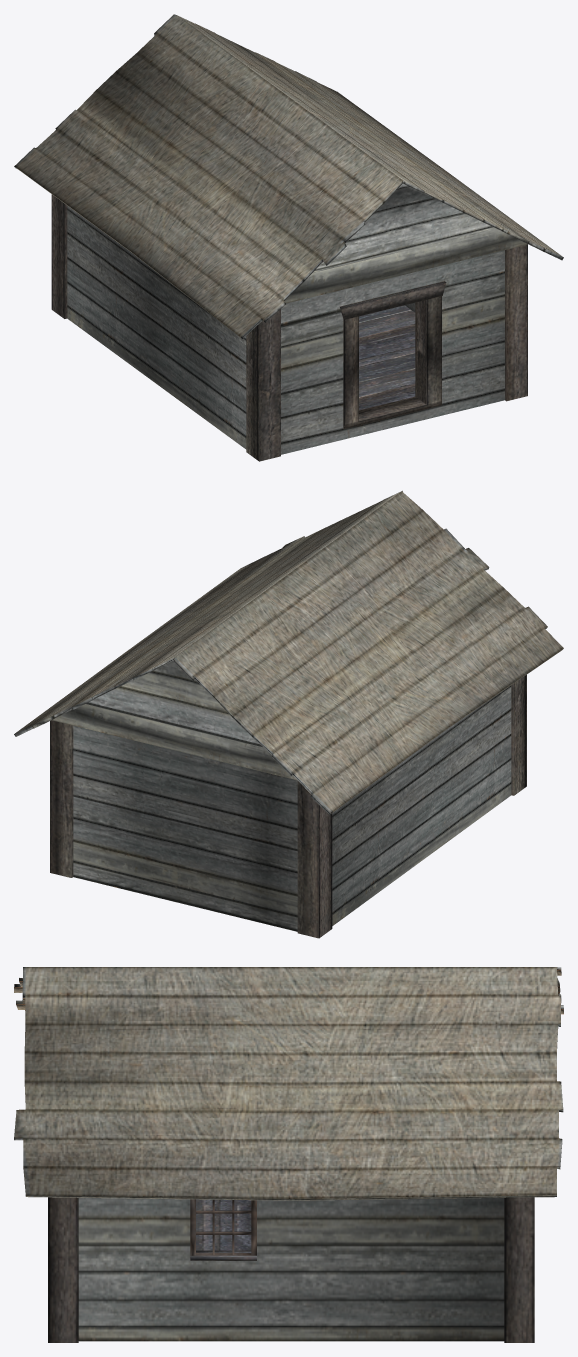
File: old_hut.glb
The picture shows the model from 3 angles, top to bottom: view 1: azimuth 30°, elevation 25°; view 2: azimuth 150°, elevation 25°; view 3: azimuth 270°, elevation 25°; orthographic projection. The views are drawn at different scales.
Parts seen in each view (by area): view 1: hut; view 2: hut; view 3: hut.
Part boxes in pixels (x1,y1,x2,y2): hut: (14,14,563,461); hut: (14,490,563,938); hut: (14,967,563,1342).
Bounding box in the file's own units: 5.43 × 4.07 × 6.78.
1 material, 1 textured.
